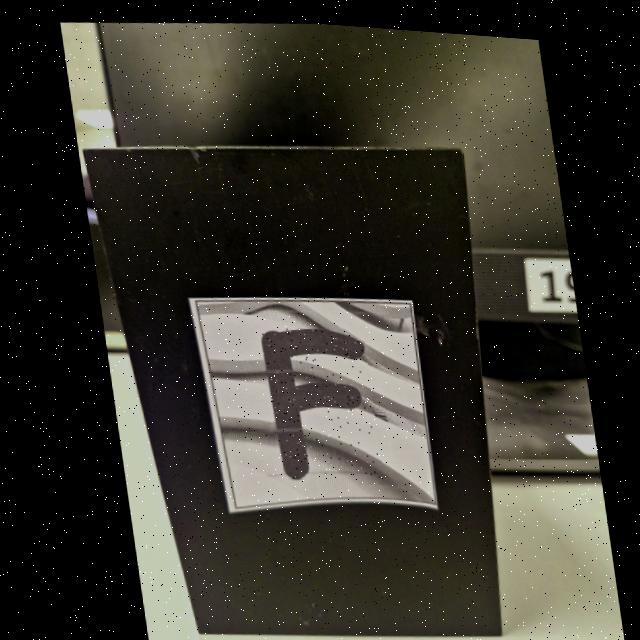F: (256, 324, 361, 474)
